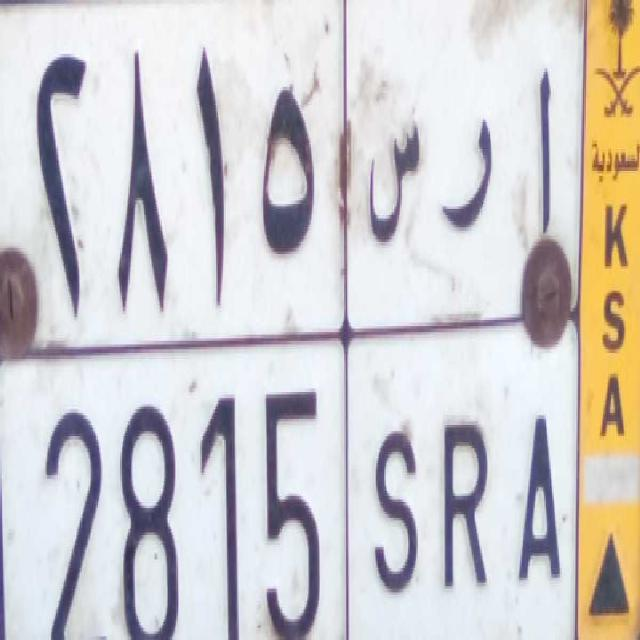license_plate: (0, 317, 578, 640)
